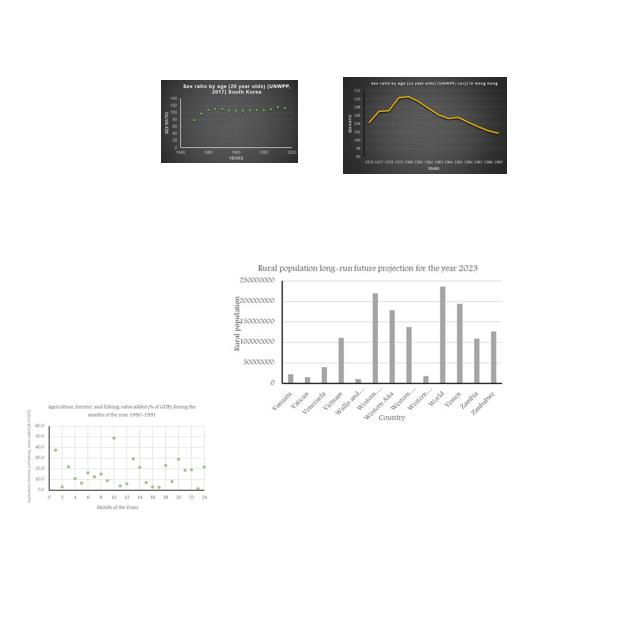Graph: (230, 260, 506, 424), (23, 400, 209, 513), (343, 77, 507, 174), (161, 80, 298, 163)
